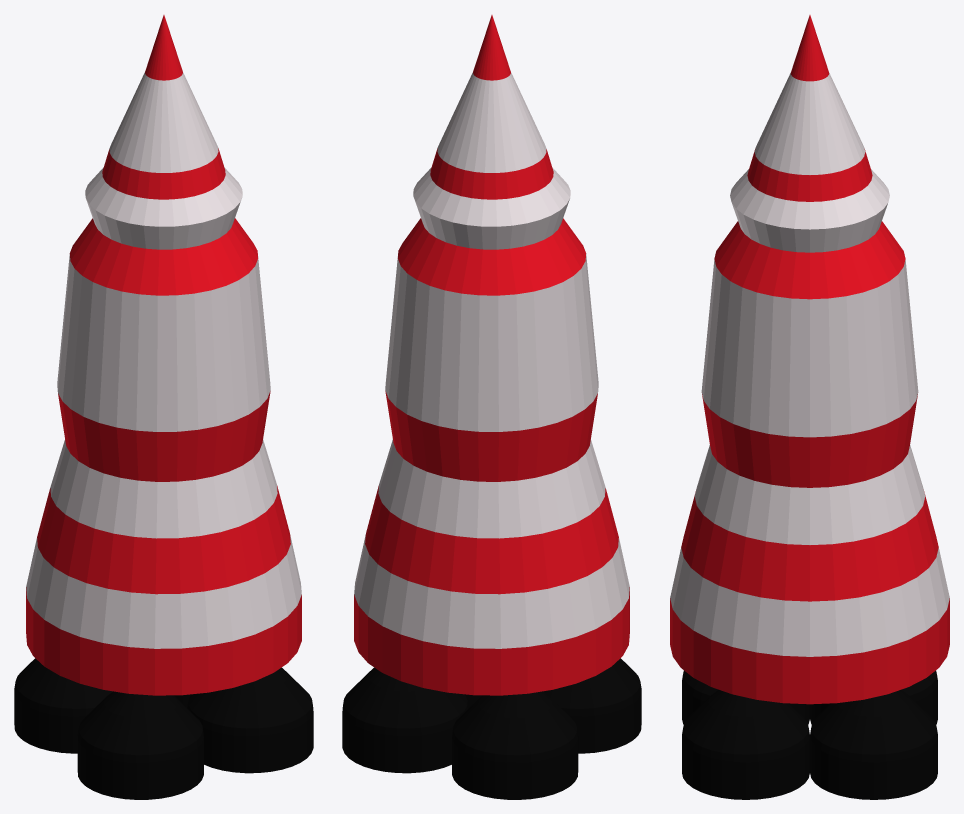
The model's file is Rocket[404].fbx.
3 views of the same model, side by side, from view 1: azimuth 30°, elevation 25°; view 2: azimuth 150°, elevation 25°; view 3: azimuth 270°, elevation 25° (orthographic).
Visible parts, largest first — view 1: Rocket; view 2: Rocket; view 3: Rocket.
Boxes of the visible parts, <box> form: Rocket: <box>14,15,313,799</box>; Rocket: <box>342,15,641,799</box>; Rocket: <box>670,15,949,799</box>.
Size of the model in its own units: 437 by 1261 by 437.
